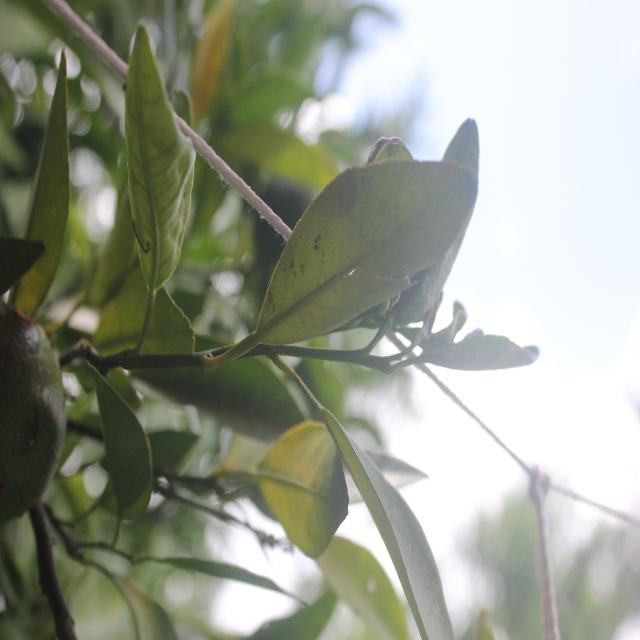melanose: (248, 166, 442, 350)
